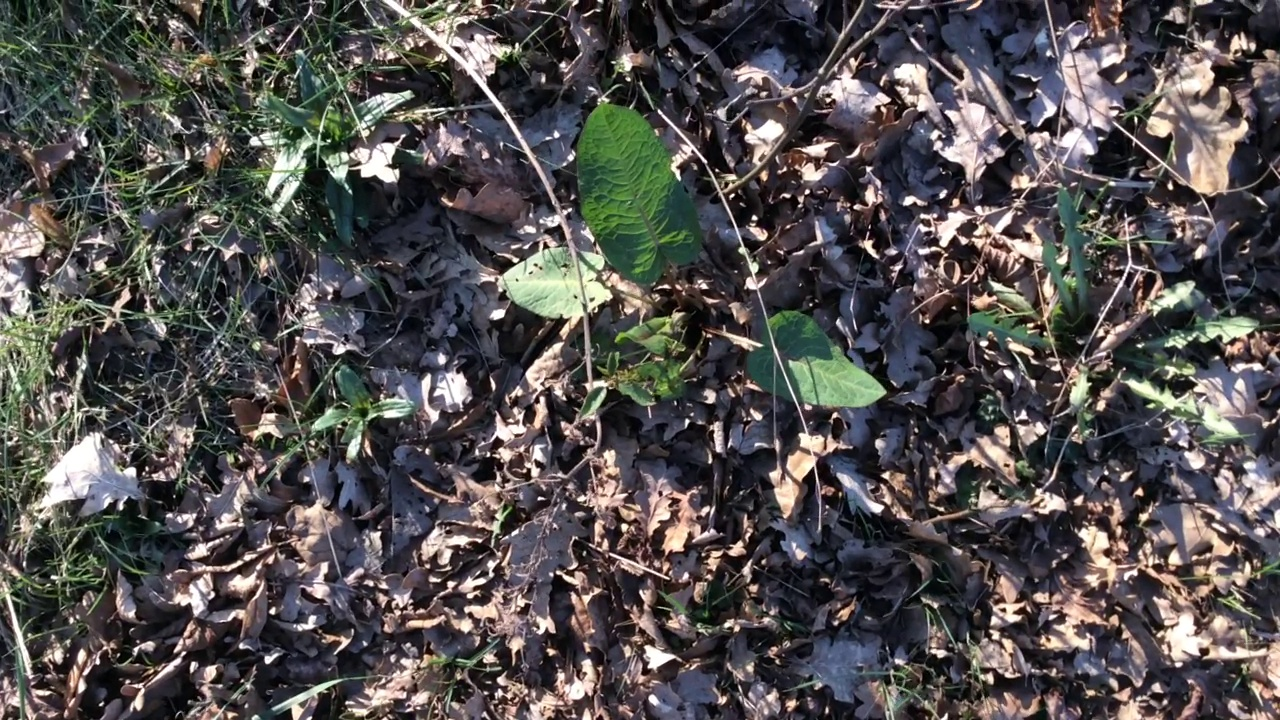rumex: (496, 104, 886, 420)
